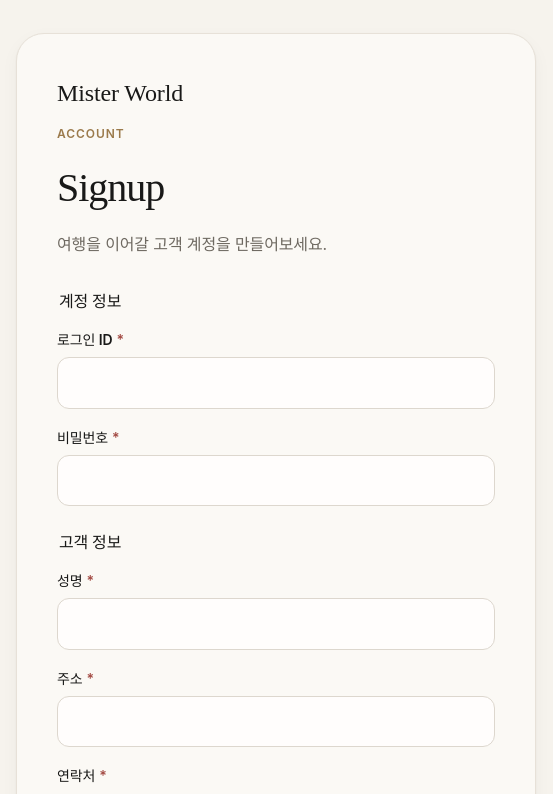
SignupPage › uses stable validation and generic unknown error copy without exposing raw errors
This screenshot has width=553, height=794.
Type "customer-01" into the field labelled "로그인 ID *".
click(276, 383); type("customer-01")  # box [57, 357, 495, 409]
Type "secret-input" into the password field labelled "비밀번호 *".
click(276, 480); type("secret-input")  # box [57, 455, 495, 506]
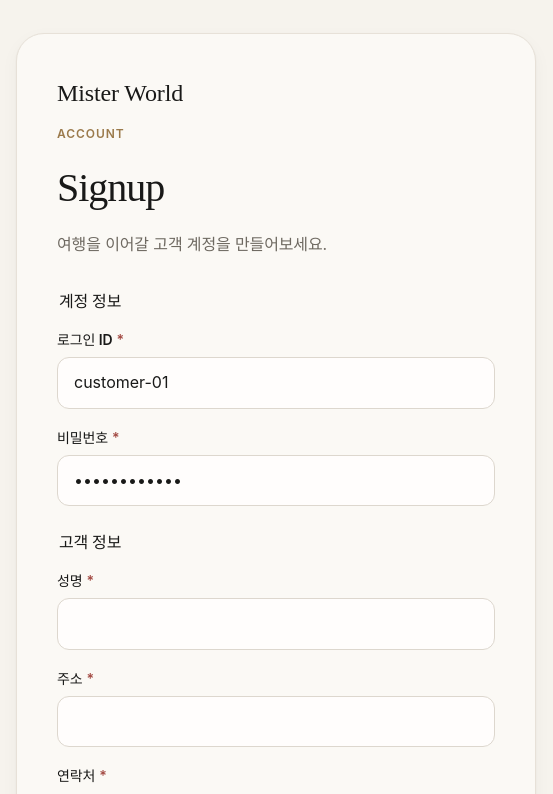
Type "Test Customer" into the field labelled "성명 *".
click(276, 624); type("Test Customer")  # box [57, 598, 495, 650]
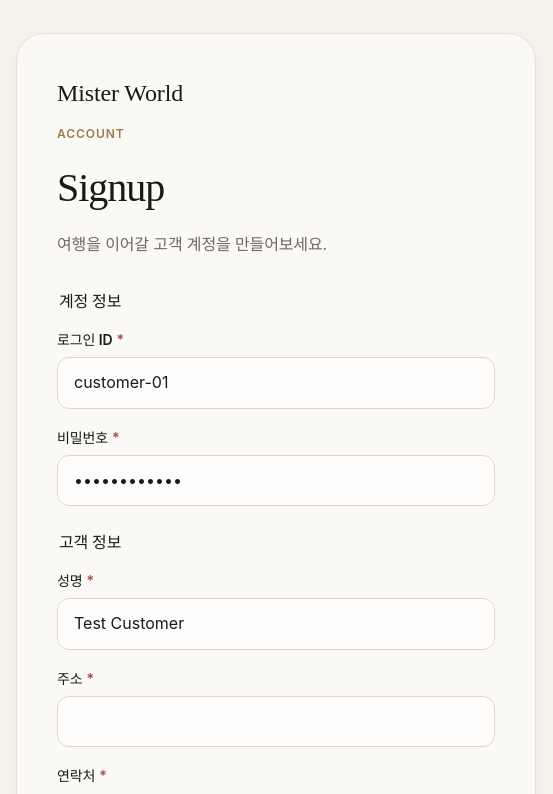
Type "Seoul address" into the field labelled "주소 *".
click(276, 722); type("Seoul address")  # box [57, 696, 495, 748]
(page scrolled)
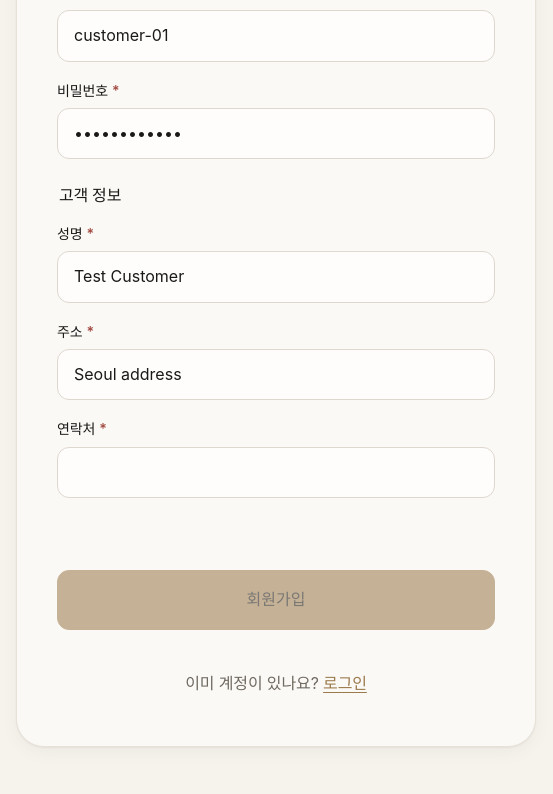
Type "010-0000-0000" into the field labelled "연락처 *".
click(276, 472); type("010-0000-0000")  # box [57, 447, 495, 498]
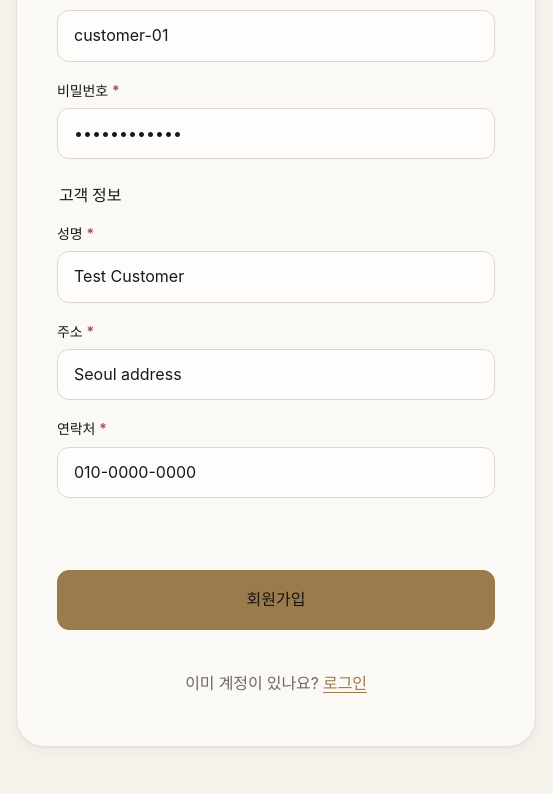
Click the button "회원가입".
click(276, 600)  # box [57, 570, 495, 630]
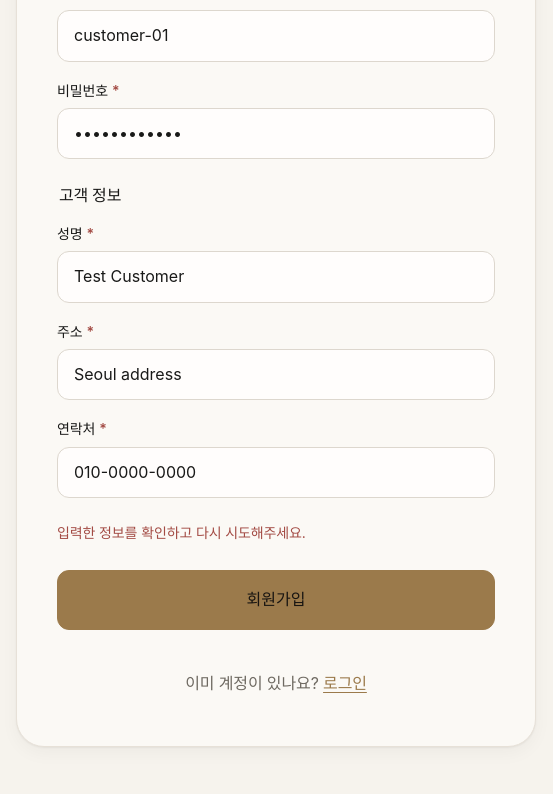
Now the message reads "입력한 정보를 확인하고 다시 시도해주세요.", box [57, 524, 306, 541]
Click the button "회원가입".
click(276, 600)  # box [57, 570, 495, 630]
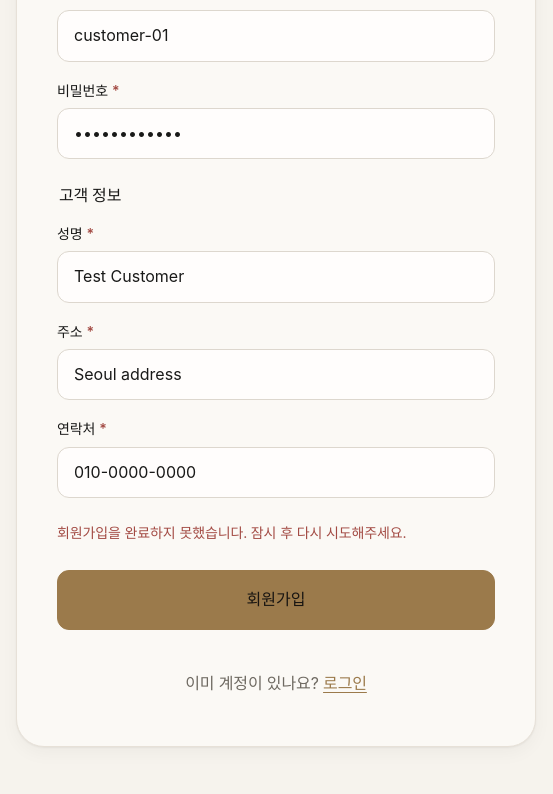
Now the message reads "회원가입을 완료하지 못했습니다. 잠시 후 다시 시도해주세요.", box [57, 524, 406, 541]
